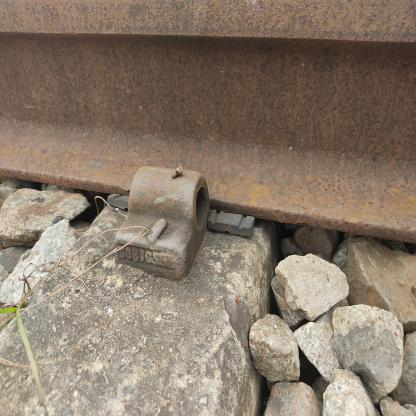Defective: (78, 119, 246, 329)
